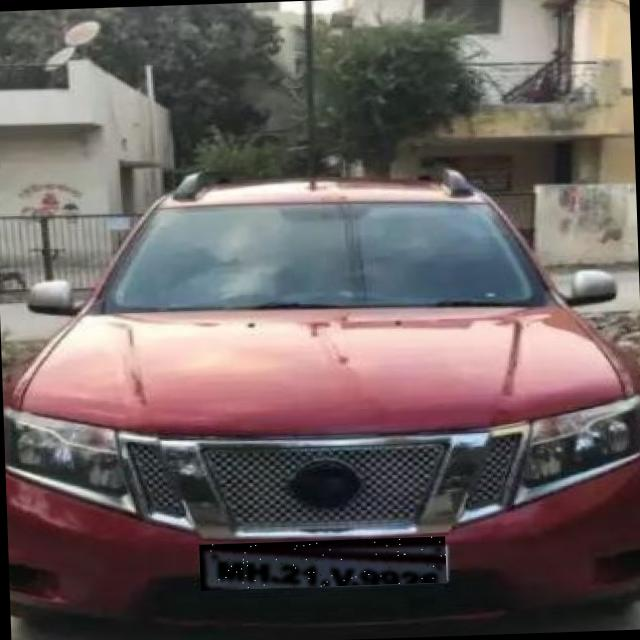Plate: (200, 537, 447, 592)
